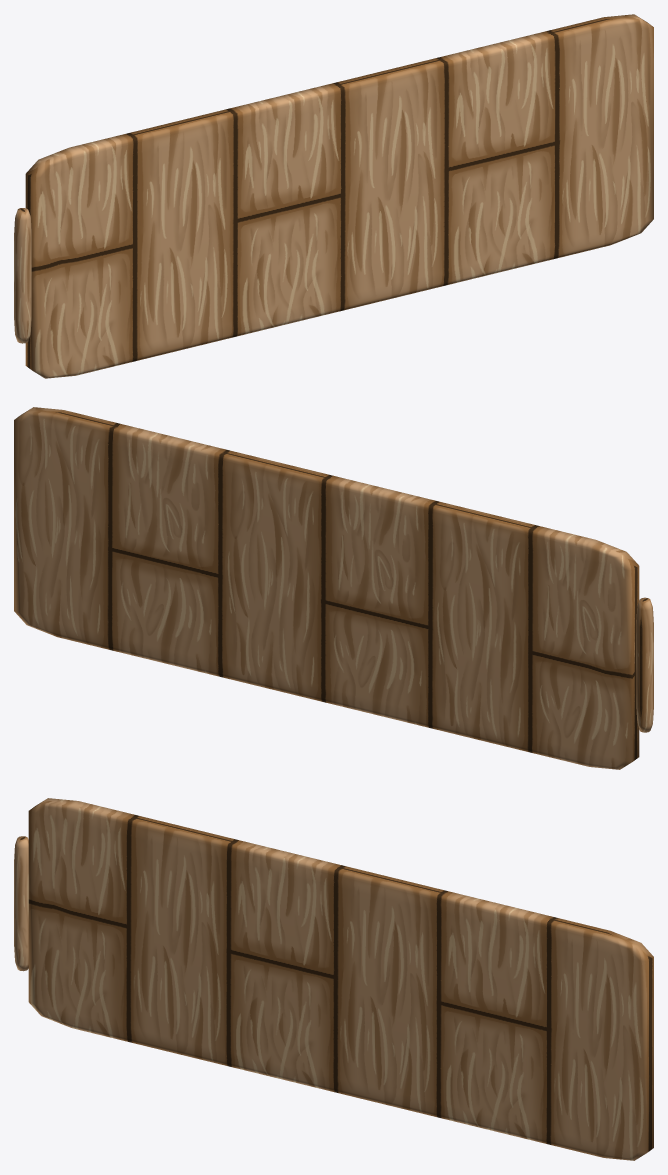
Rendered from kitchendoor.fbx.
The picture shows the model from 3 angles, top to bottom: view 1: azimuth 30°, elevation 25°; view 2: azimuth 150°, elevation 25°; view 3: azimuth 330°, elevation 25°; orthographic projection.
Parts seen in each view (by area): view 1: kitchenDoor; view 2: kitchenDoor; view 3: kitchenDoor.
Boxes of the visible parts, box(x1,y1,x2,y2) form: kitchenDoor: box(14, 14, 653, 378); kitchenDoor: box(14, 407, 653, 769); kitchenDoor: box(14, 798, 653, 1160).
Size of the model in its own units: 177 by 59.34 by 5.
